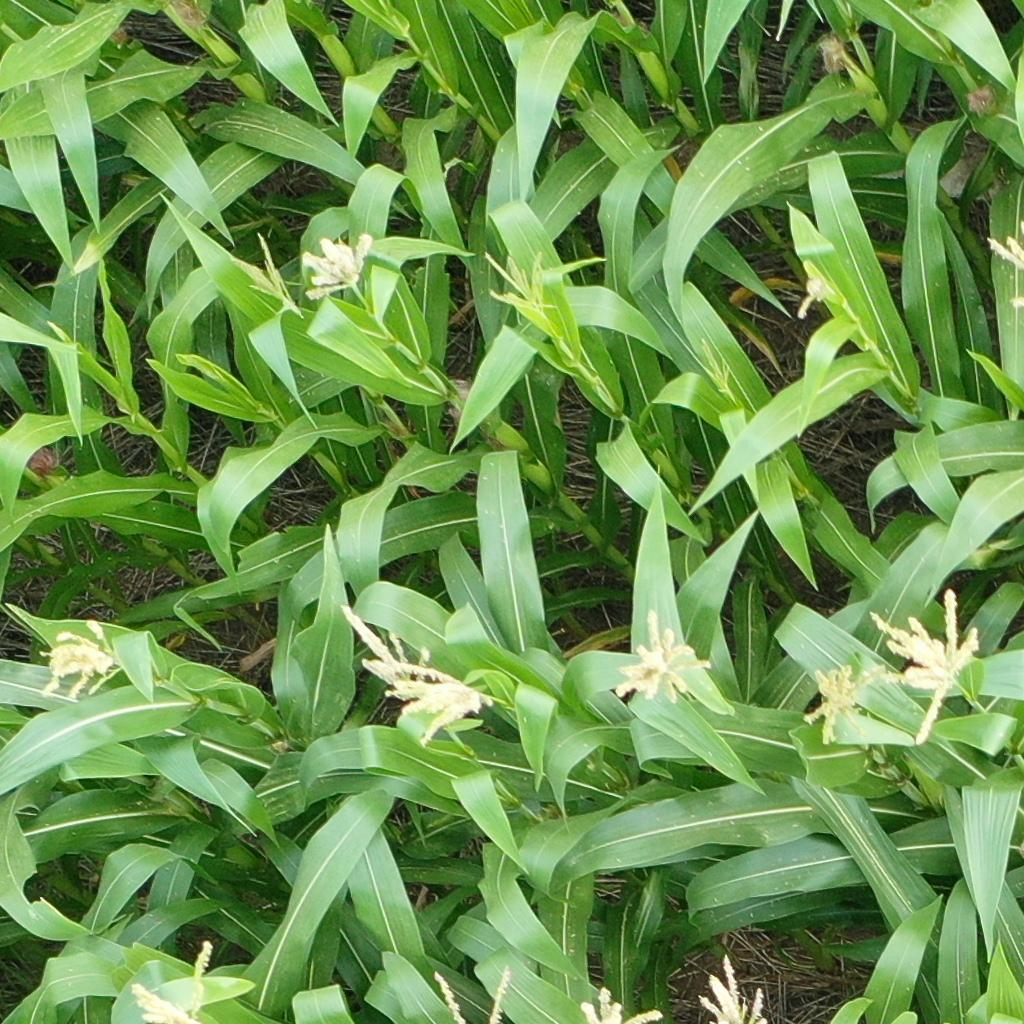Tassel: (871, 589, 980, 749), (615, 611, 713, 706), (390, 662, 492, 748), (339, 605, 431, 700), (130, 936, 215, 1024), (36, 616, 123, 700), (231, 231, 309, 321), (803, 664, 889, 744), (697, 953, 767, 1024), (430, 964, 512, 1024), (483, 249, 552, 320), (302, 233, 374, 301), (982, 217, 1024, 311), (577, 985, 662, 1024), (699, 334, 732, 393), (795, 278, 833, 319)
